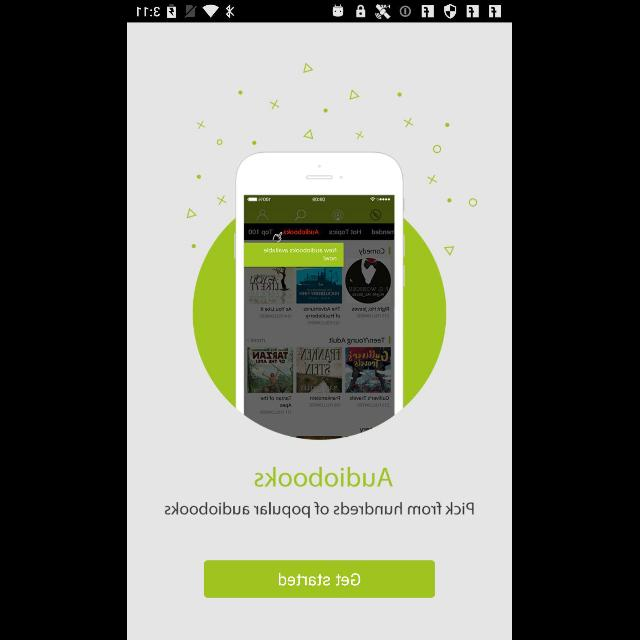image: (187, 62, 479, 440)
text: (165, 502, 475, 518), (254, 467, 394, 488)
textbutton: (204, 560, 436, 598)
uppertaskbar: (128, 1, 512, 23)
